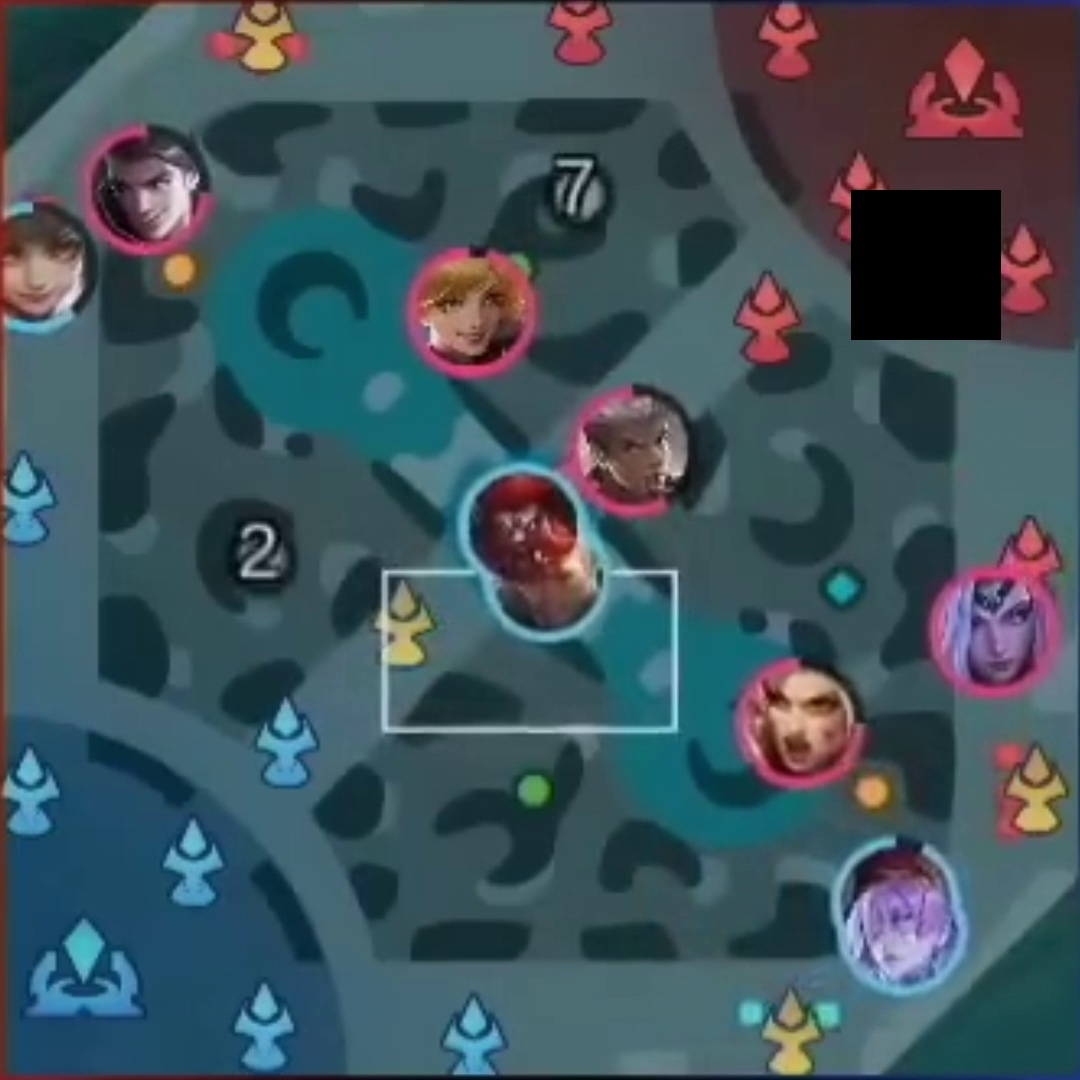Chou: (584, 396, 685, 501)
Claude: (89, 131, 201, 251)
Fanny: (414, 252, 526, 374)
Masha: (744, 666, 858, 773)
Minotaur: (471, 470, 577, 573)
Novaria: (848, 888, 956, 978)
Valentina: (936, 577, 1052, 691)
Wanwan: (1, 209, 89, 329)
